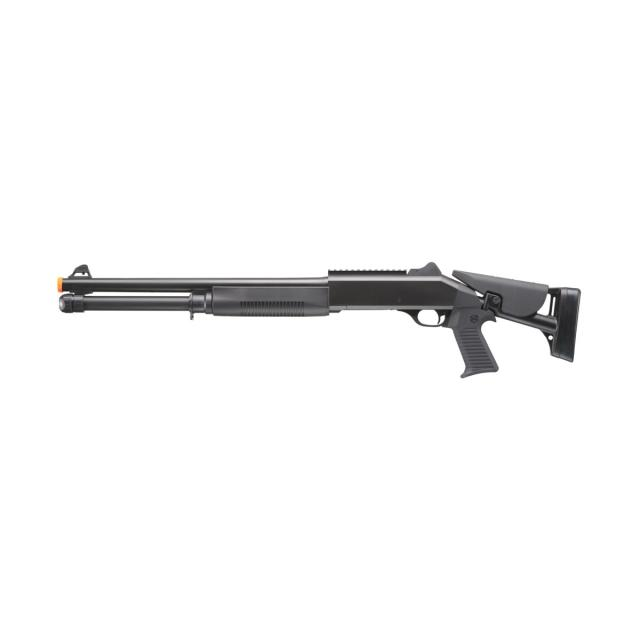ShotGun: (55, 265, 582, 380)
